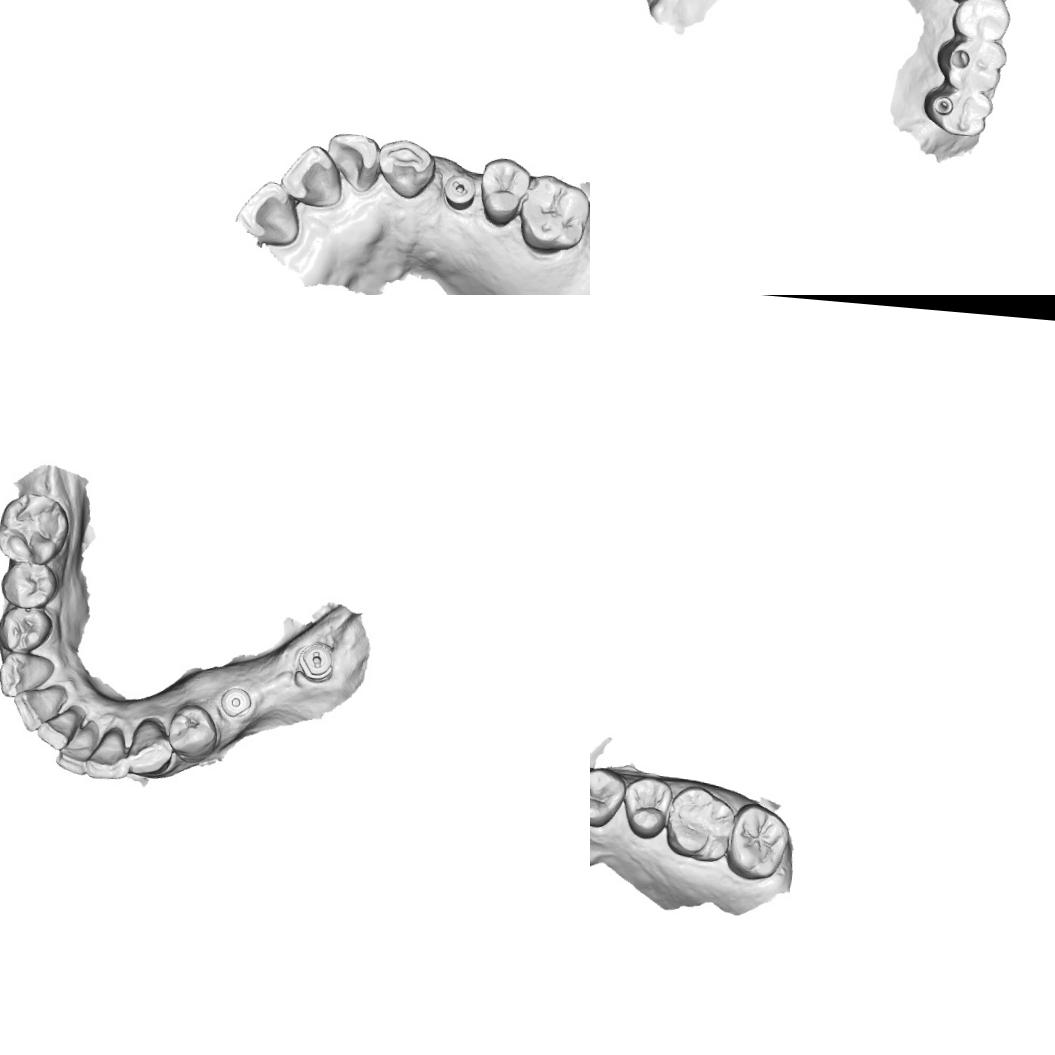canine: (373, 135, 437, 202), (124, 715, 176, 778), (0, 648, 55, 701)
implant: (218, 684, 254, 718)
implant_minus: (296, 641, 337, 683), (440, 170, 477, 210)
incisor: (275, 140, 347, 209), (234, 177, 303, 249), (324, 130, 382, 194), (82, 724, 132, 782), (10, 682, 62, 736), (53, 723, 97, 776), (34, 705, 78, 754)
molar: (516, 170, 590, 256), (660, 782, 736, 864), (723, 800, 793, 883), (0, 488, 72, 567), (933, 35, 1009, 94), (920, 84, 995, 139)
premolar: (474, 153, 532, 230), (164, 700, 222, 766), (618, 772, 673, 840), (0, 558, 60, 611), (0, 603, 54, 656), (948, 0, 1013, 43), (590, 762, 628, 829)
